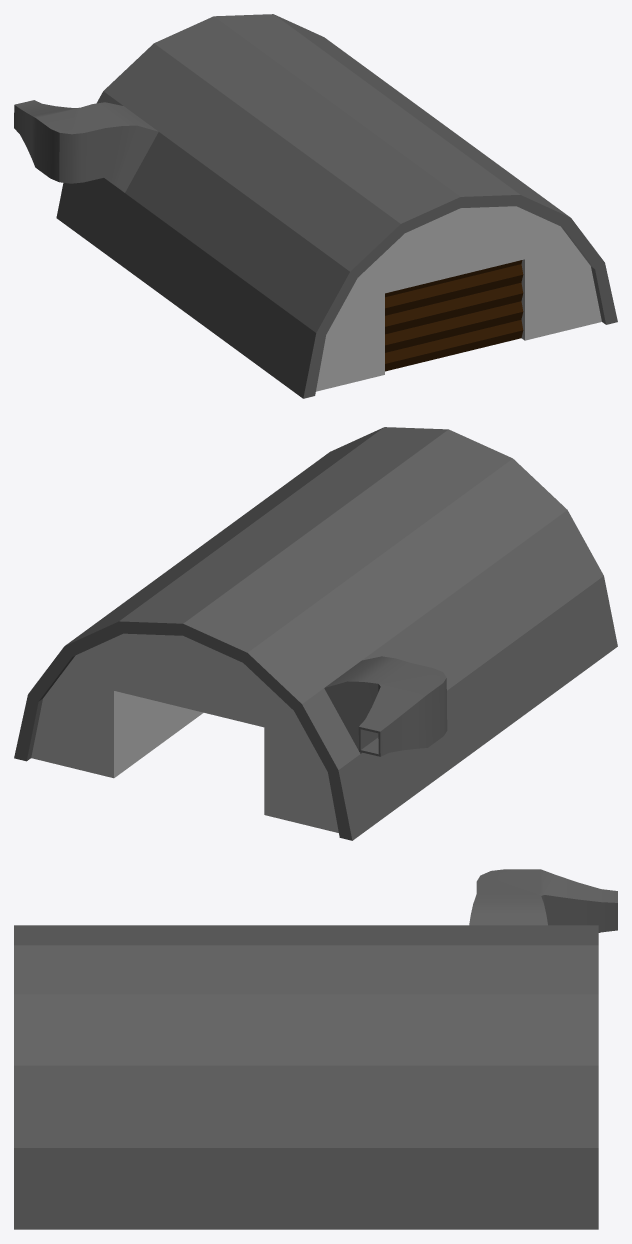
File: Warehouse_Mesh.fbx
The picture shows the model from 3 angles, top to bottom: view 1: azimuth 30°, elevation 25°; view 2: azimuth 150°, elevation 25°; view 3: azimuth 270°, elevation 25°; orthographic projection. The views are drawn at different scales.
Parts seen in each view (by area): view 1: polySurface6, polySurface3, polySurface2, polySurface8; view 2: polySurface6, polySurface5, polySurface8; view 3: polySurface6, polySurface8.
Part boxes in pixels (left/top/right/bottom): polySurface6: left=56, top=14, right=617, bottom=398; polySurface3: left=316, top=206, right=601, bottom=391; polySurface2: left=385, top=260, right=523, bottom=371; polySurface8: left=14, top=100, right=158, bottom=192; polySurface6: left=14, top=427, right=617, bottom=840; polySurface5: left=31, top=633, right=338, bottom=832; polySurface8: left=324, top=656, right=447, bottom=756; polySurface6: left=14, top=925, right=598, bottom=1229; polySurface8: left=469, top=869, right=617, bottom=932.
Size of the model in its own units: 999 by 434 by 1225.
